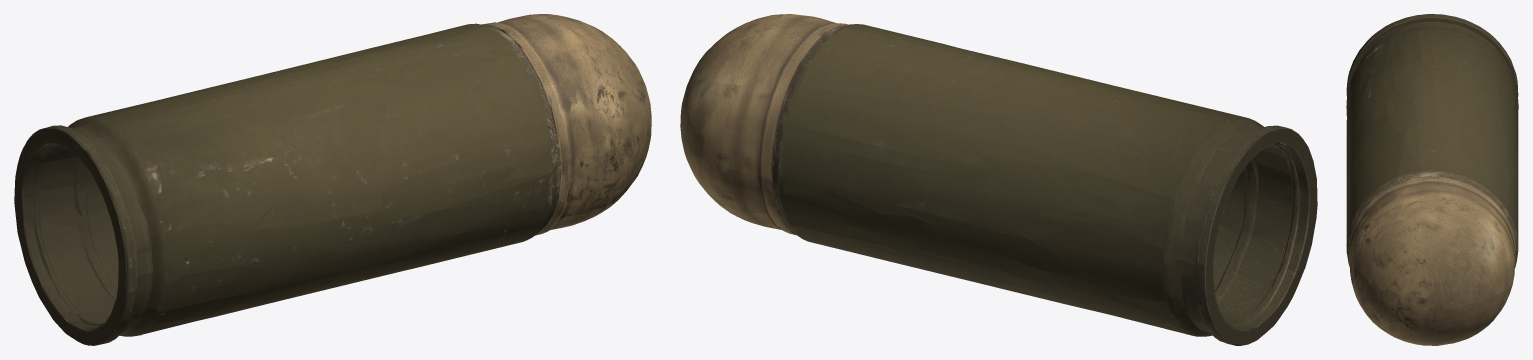
Rendered from vog.glb.
3 views of the same model, side by side, from view 1: azimuth 30°, elevation 25°; view 2: azimuth 150°, elevation 25°; view 3: azimuth 270°, elevation 25° (orthographic). The views are drawn at different scales.
Visible parts, largest first — view 1: mesh_node; view 2: mesh_node; view 3: mesh_node.
Boxes of the visible parts, left/top/right/bottom form: mesh_node: left=14, top=14, right=651, bottom=345; mesh_node: left=680, top=14, right=1317, bottom=345; mesh_node: left=1346, top=14, right=1518, bottom=345.
Bounding box in the file's own units: 1.9 × 0.651 × 0.6611.
Materials: 1 (1 with a texture image).
